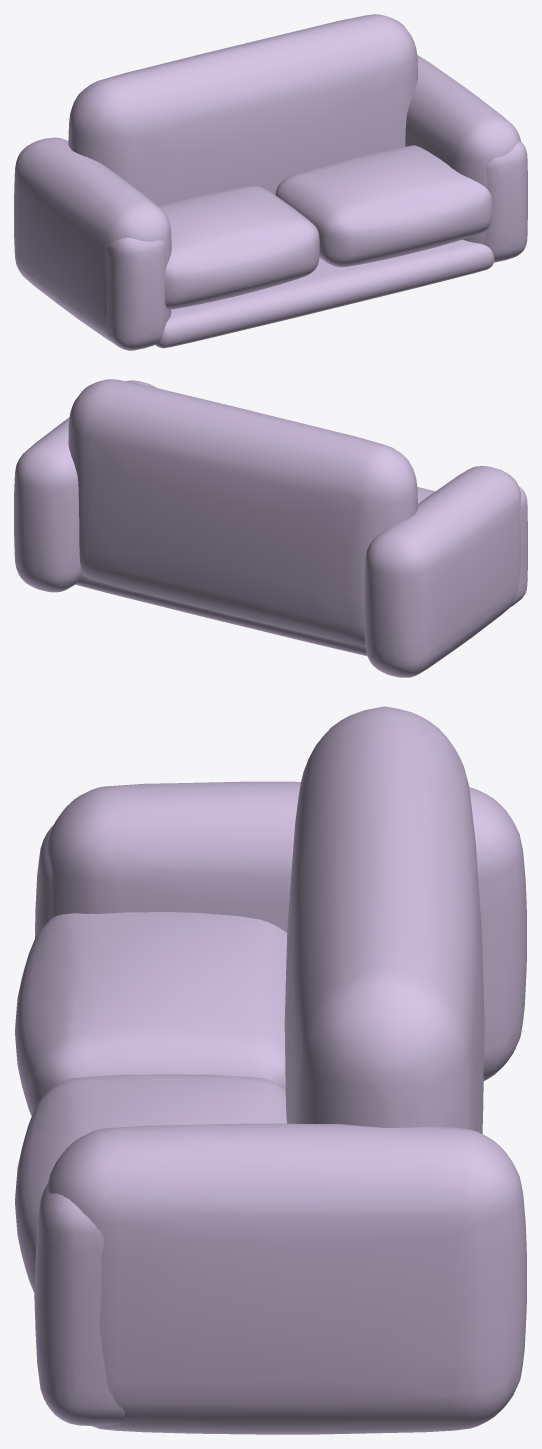
The model's file is sofa_a.glb.
The picture shows the model from 3 angles, top to bottom: view 1: azimuth 30°, elevation 25°; view 2: azimuth 150°, elevation 25°; view 3: azimuth 270°, elevation 25°; orthographic projection. The views are drawn at different scales.
Parts seen in each view (by area): view 1: body; view 2: body; view 3: body.
Part boxes in pixels (box(x1,y1,x2,y2)): body: box(14, 14, 527, 350); body: box(14, 379, 527, 677); body: box(15, 706, 526, 1434).
Size of the model in its own units: 1.6 by 0.7604 by 0.8452.
